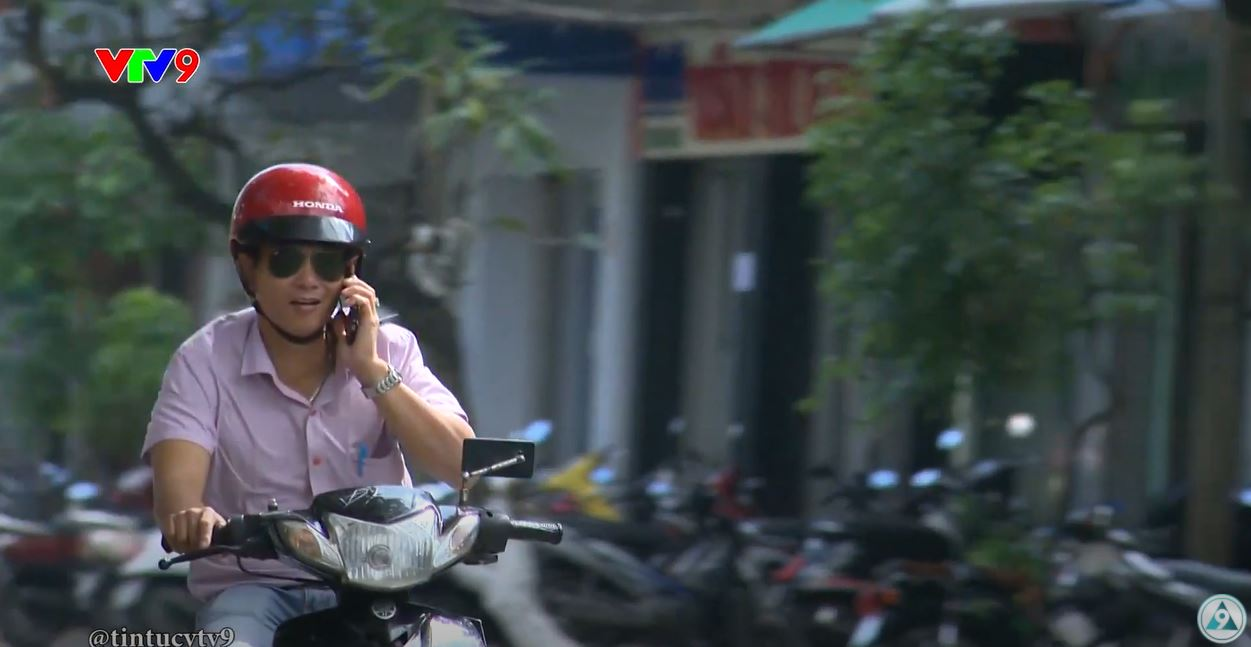dieu khien xe may: (161, 163, 534, 645)
su dung dien thoai: (232, 165, 387, 378)
